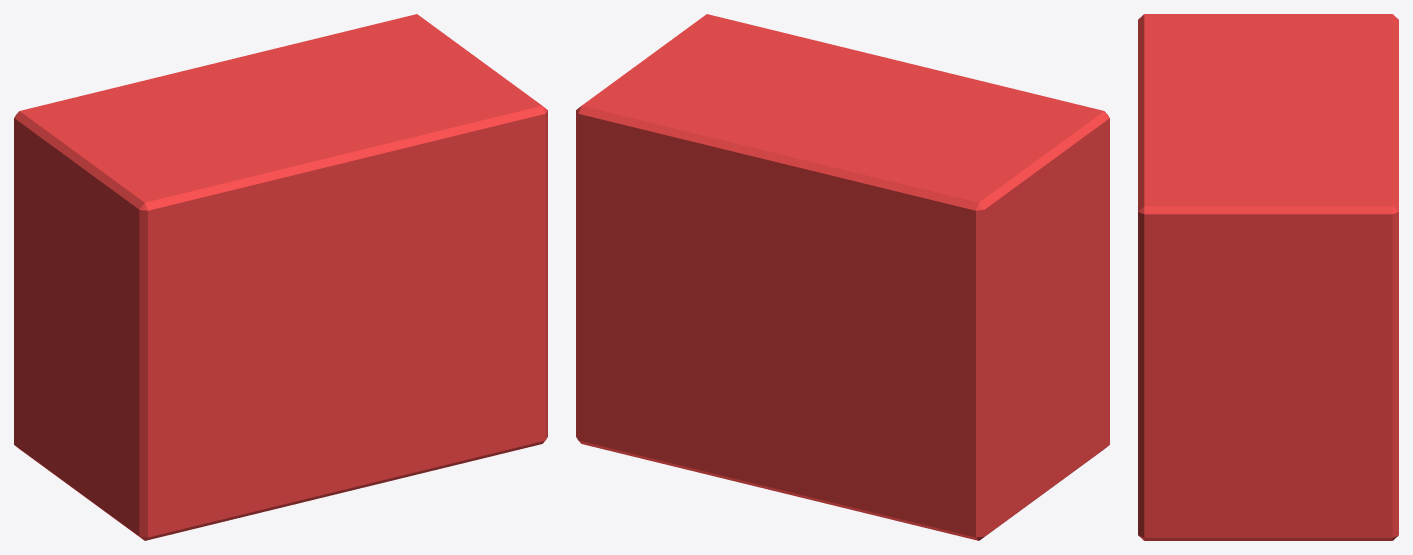
File: boite.FBX
3 views of the same model, side by side, from view 1: azimuth 30°, elevation 25°; view 2: azimuth 150°, elevation 25°; view 3: azimuth 270°, elevation 25° (orthographic).
Visible parts, largest first — view 1: boite; view 2: boite; view 3: boite.
Part boxes in pixels (x1,y1,x2,y2): boite: [14, 14, 547, 540]; boite: [576, 14, 1109, 540]; boite: [1138, 14, 1398, 540].
Size of the model in its own units: 10.66 by 8.43 by 5.95.
